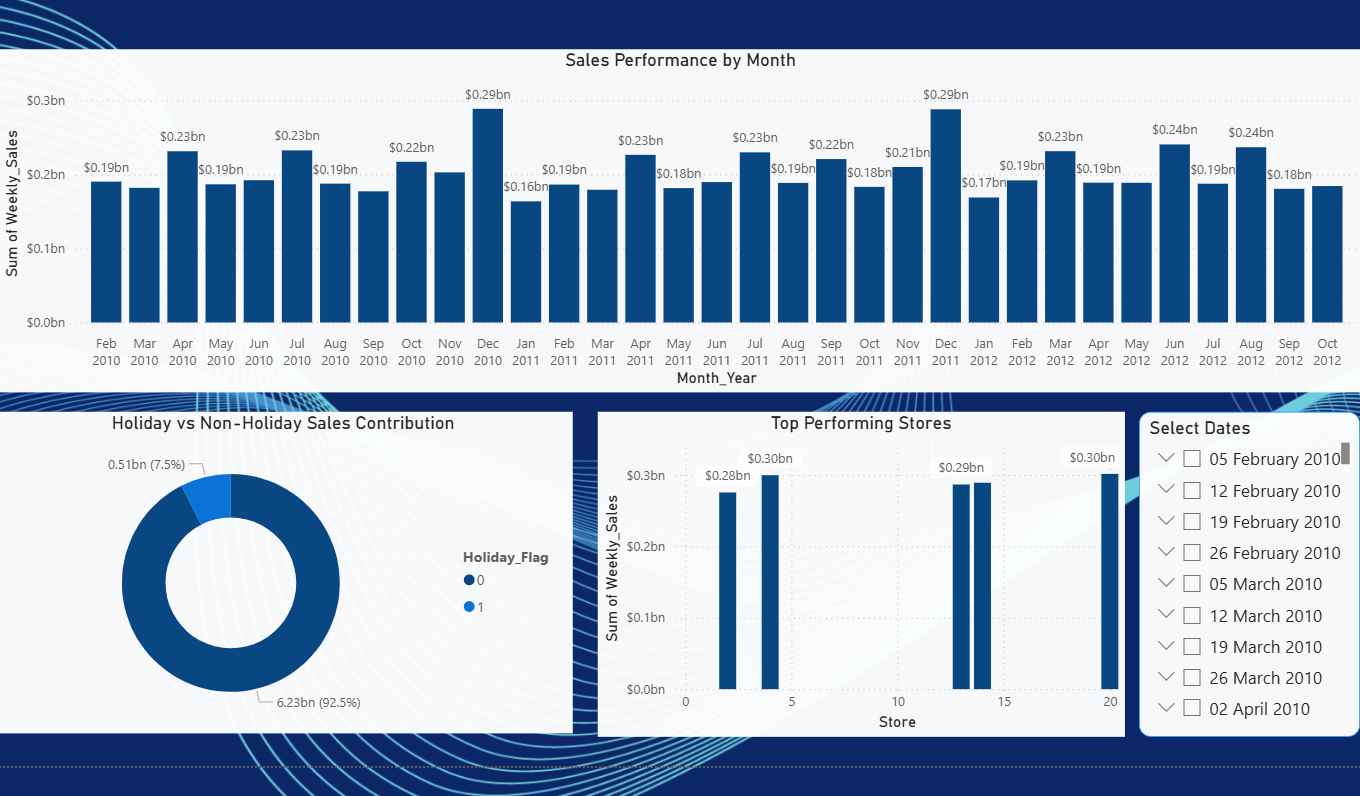

The dashboard page shown, as its layout file describes it:
{"tool":"powerbi","page":{"name":"Monthly Sales Analysis","canvas":[1280,720],"ordinal":1},"visuals":[{"type":"clusteredColumnChart","title":"Sales Performance by Month","fields":{"Y":["Sum(Walmart.Weekly_Sales)"],"Category":["Walmart.Month_Year"]},"box":[3.7,52.6,1270.5,319.2],"z":0},{"type":"donutChart","title":"Holiday vs Non-Holiday Sales Contribution","fields":{"Category":["Walmart.Holiday_Flag"],"Y":["Sum(Walmart.Weekly_Sales)"]},"box":[0,390.1,538,299.6],"z":1000},{"type":"slicer","title":"Select Dates","fields":{"Values":["Walmart.Date","Walmart.Store","Walmart.Holiday_Flag"]},"box":[1065.1,390.1,205.4,302],"z":2000},{"type":"lineClusteredColumnComboChart","title":"Top Performing Stores","fields":{"Category":["Walmart.Store"],"Y":["Sum(Walmart.Weekly_Sales)"]},"box":[561.3,390.1,490.4,302],"z":3000}]}

Visuals, with their boxes on the page's 1280x720 design canvas (x1, y1, x2, y2). These are canvas units, not pixel positions in the 1360x796 screenshot, which may show the page scaled, cropped or inside an application window:
"Sales Performance by Month" clusteredColumnChart: bbox=(4, 53, 1274, 372)
"Holiday vs Non-Holiday Sales Contribution" donutChart: bbox=(0, 390, 538, 690)
"Select Dates" slicer: bbox=(1065, 390, 1270, 692)
"Top Performing Stores" lineClusteredColumnComboChart: bbox=(561, 390, 1052, 692)
